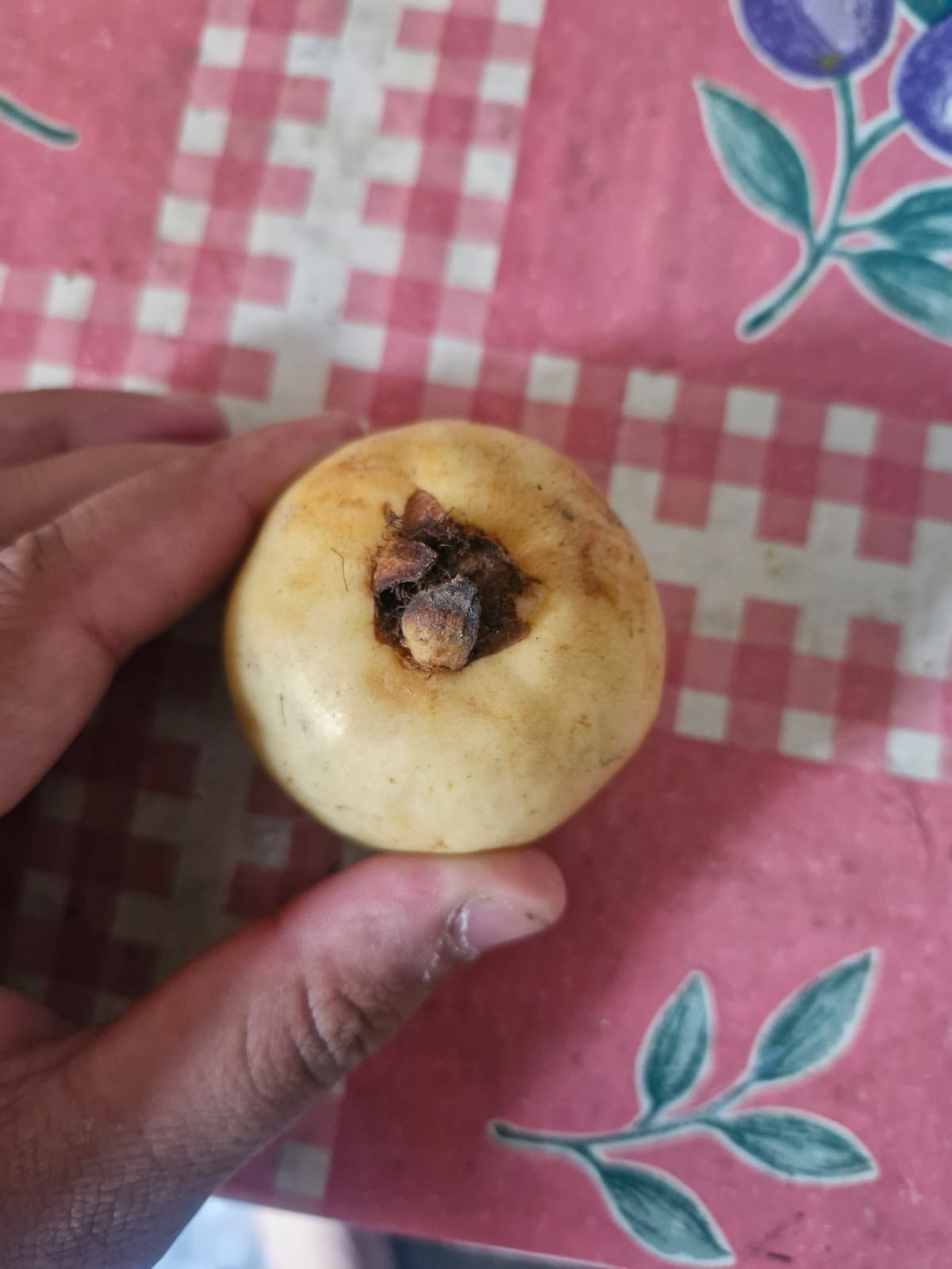guava: (103, 269, 890, 1200)
